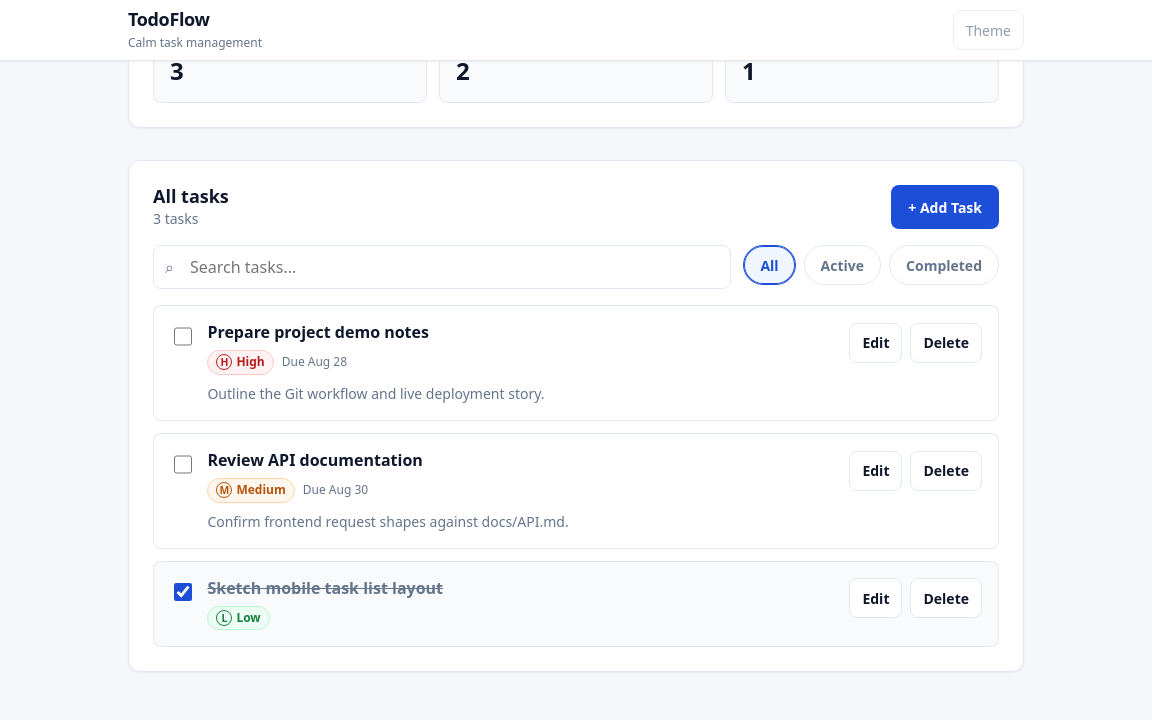
Scenario: TodoFlow App › shows Saving... and prevents duplicate edit submissions
(page scrolled)
Check: the text "Prepare project demo notes" is shown, box [207,321,429,343]
Click the button with aria-label "Edit task “Sketch mobile task list layout”" at (876, 598), box [849,578,902,618]
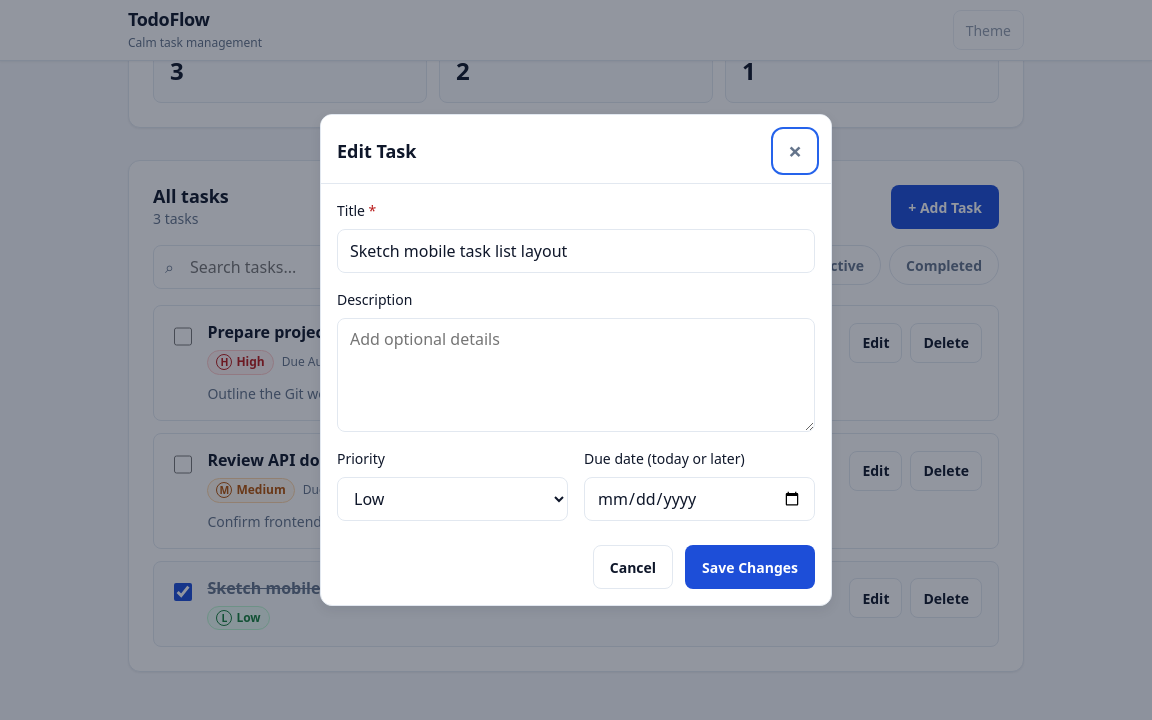
Replace the text in the field labelled "Title *" with "Busy edit" at (576, 251), box [337,229,815,273]
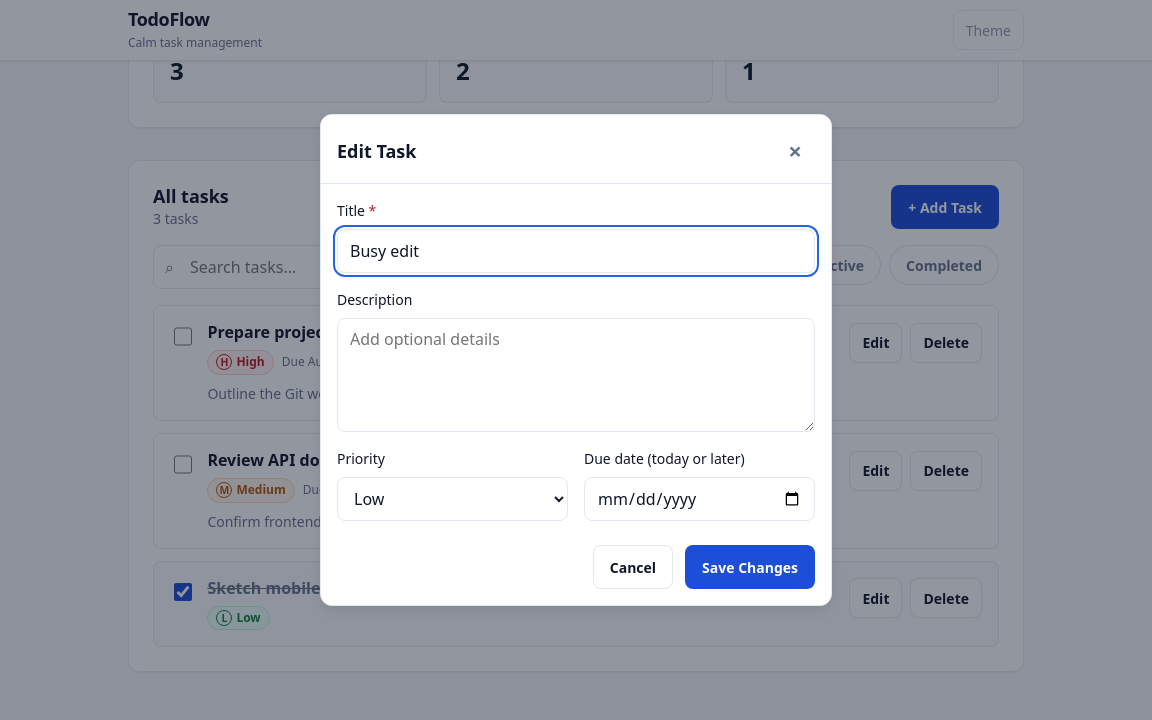
Click the button "Save Changes" at (750, 567), box [685,545,815,589]
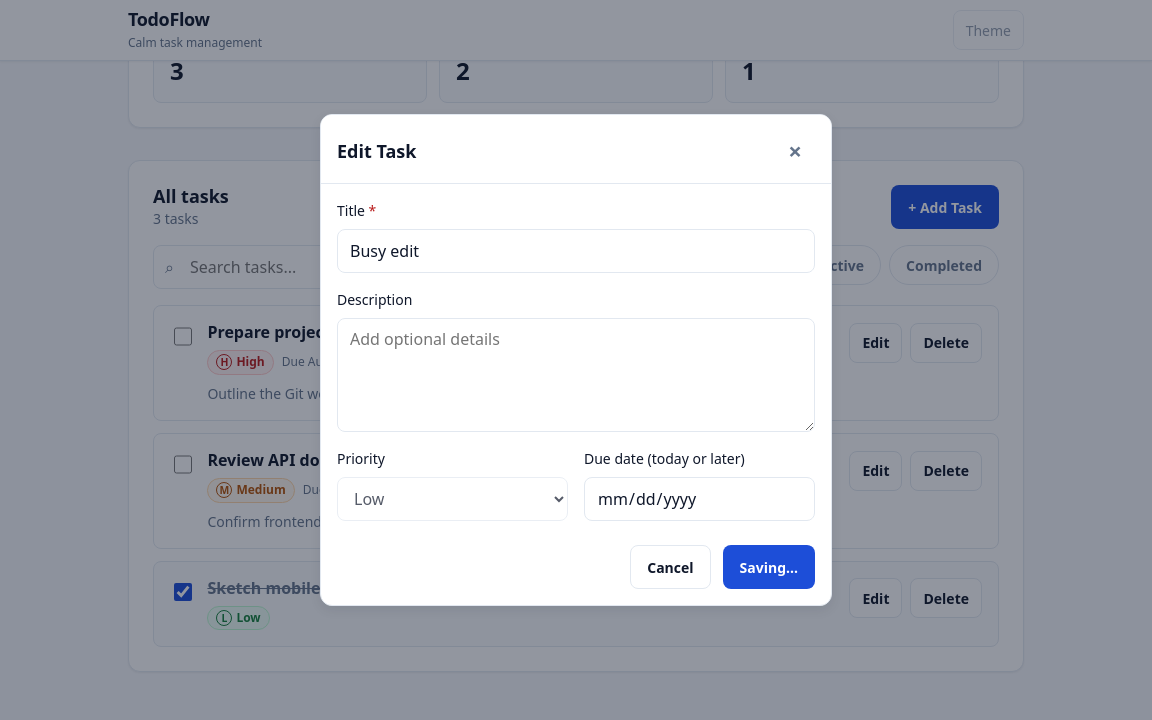
Check: the button "Saving..." is disabled
Click the button "Saving..." at (769, 567), box [723,545,815,589]
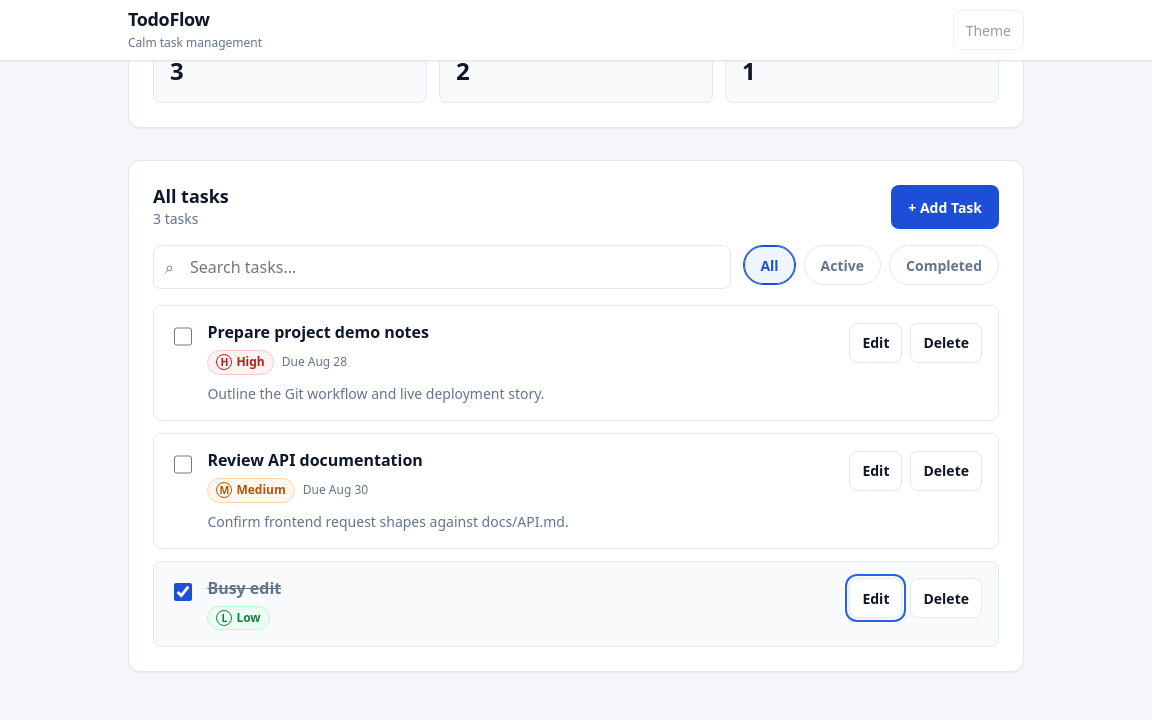
Check: the heading "Edit Task" is gone
